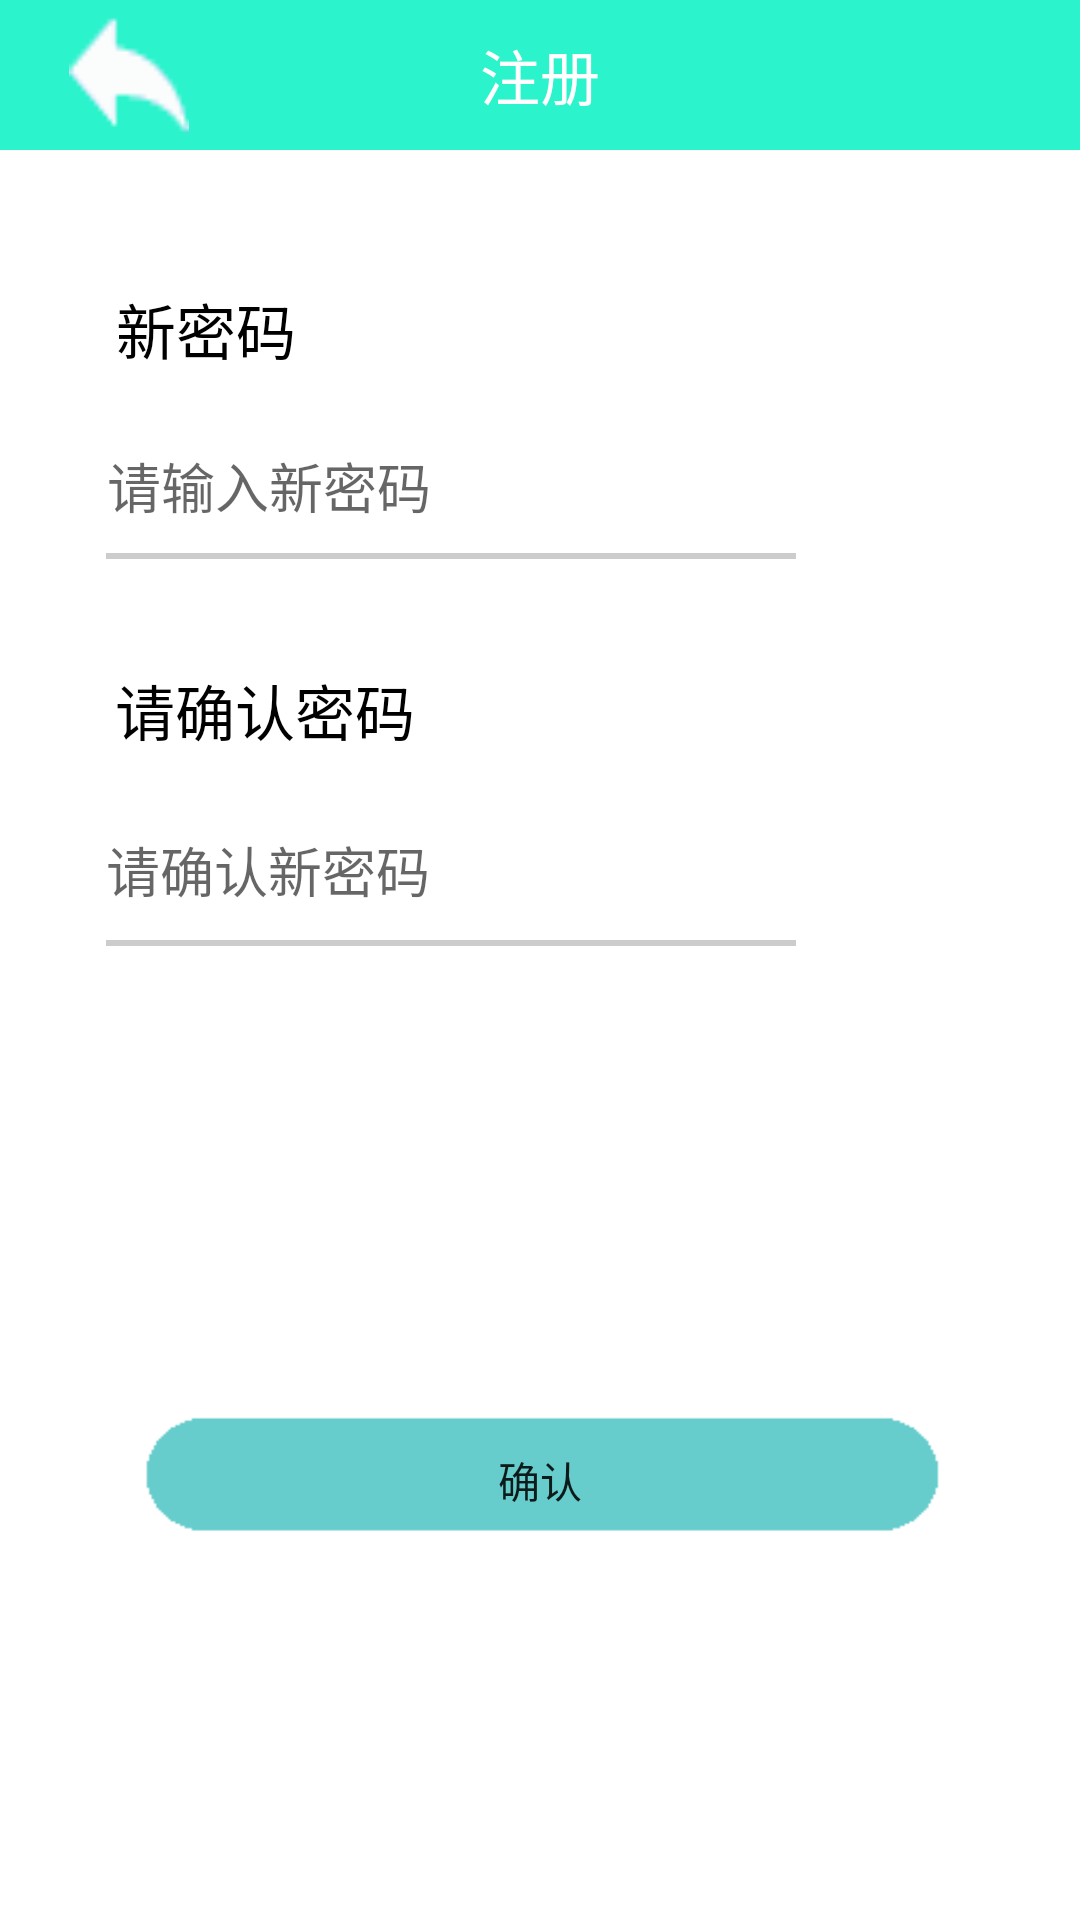

Icon bounding boxes for this 1080 × 1920 phone screenshot, format [x1,y1,x2,y2]:
back: [69,18,189,135]
